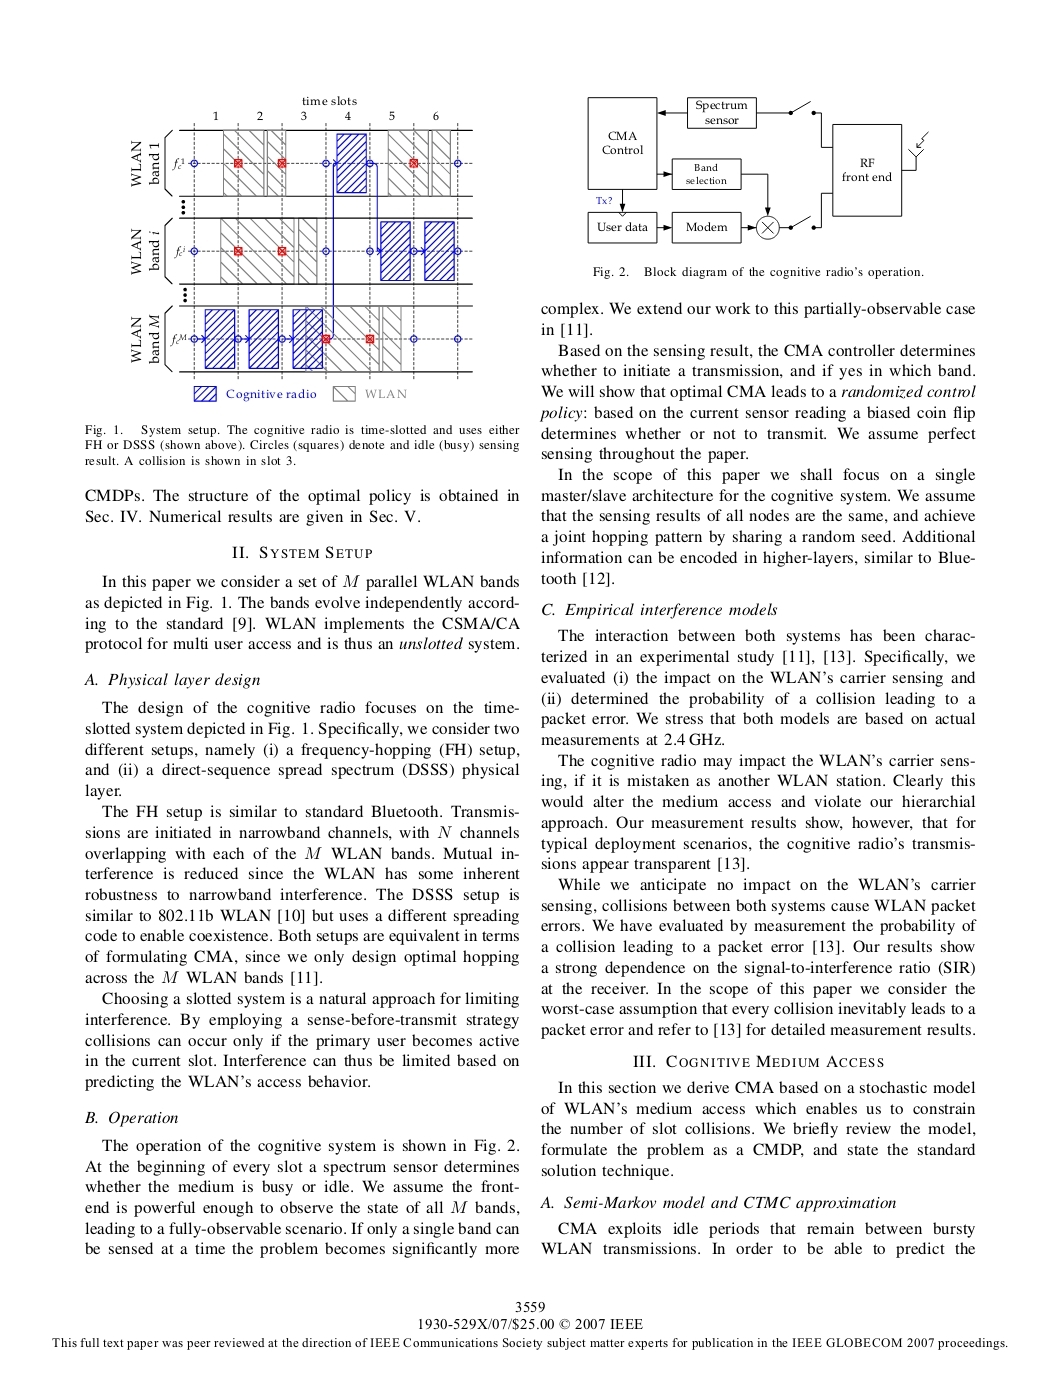figure: (132, 96, 473, 401), (587, 95, 928, 244)
